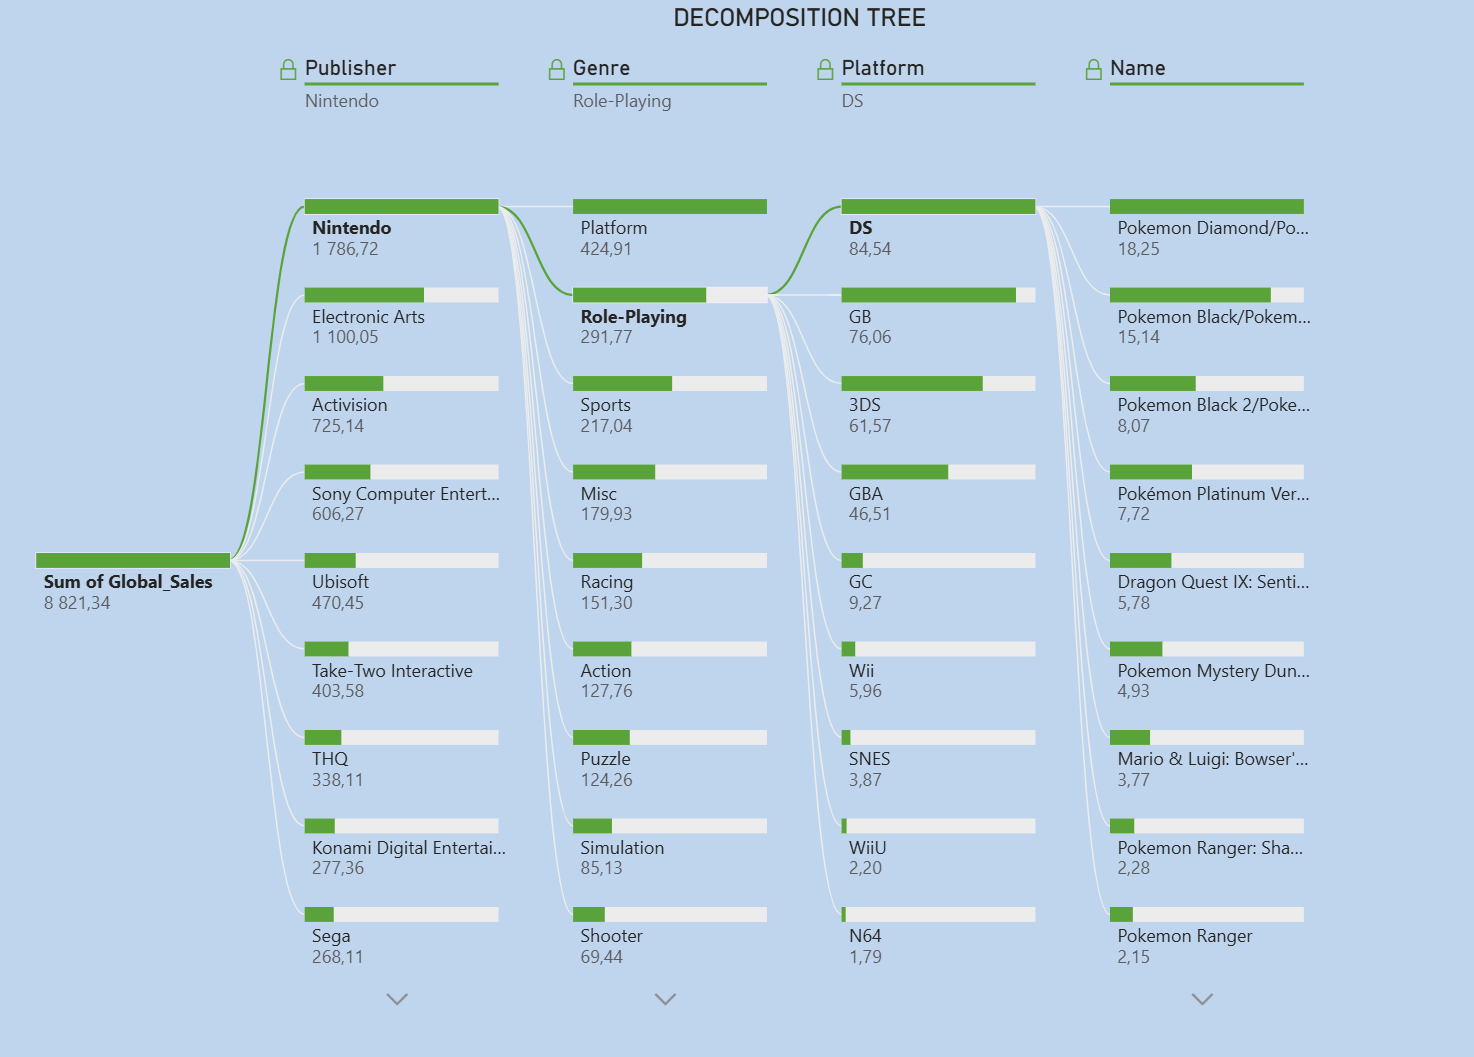

This screenshot's page, from the dashboard's own definition file:
{"tool":"powerbi","page":{"name":"Decomposition tree","canvas":[1280,720],"ordinal":1},"visuals":[{"type":"decompositionTreeVisual","title":"DECOMPOSITION TREE","fields":{"Analyze":["Sum(Sales_main.Global_Sales)"],"ExplainBy":["Dim_Publishers.Publisher","Sales_main.Genre","Dim_Platform.Platform","Sales_main.Name"]},"box":[0,0,1094,720],"z":0}]}

Visuals, with their boxes on the page's 1280x720 design canvas (x1, y1, x2, y2). These are canvas units, not pixel positions in the 1474x1057 screenshot, which may show the page scaled, cropped or inside an application window:
"DECOMPOSITION TREE" decompositionTreeVisual: (x1=0, y1=0, x2=1094, y2=720)
